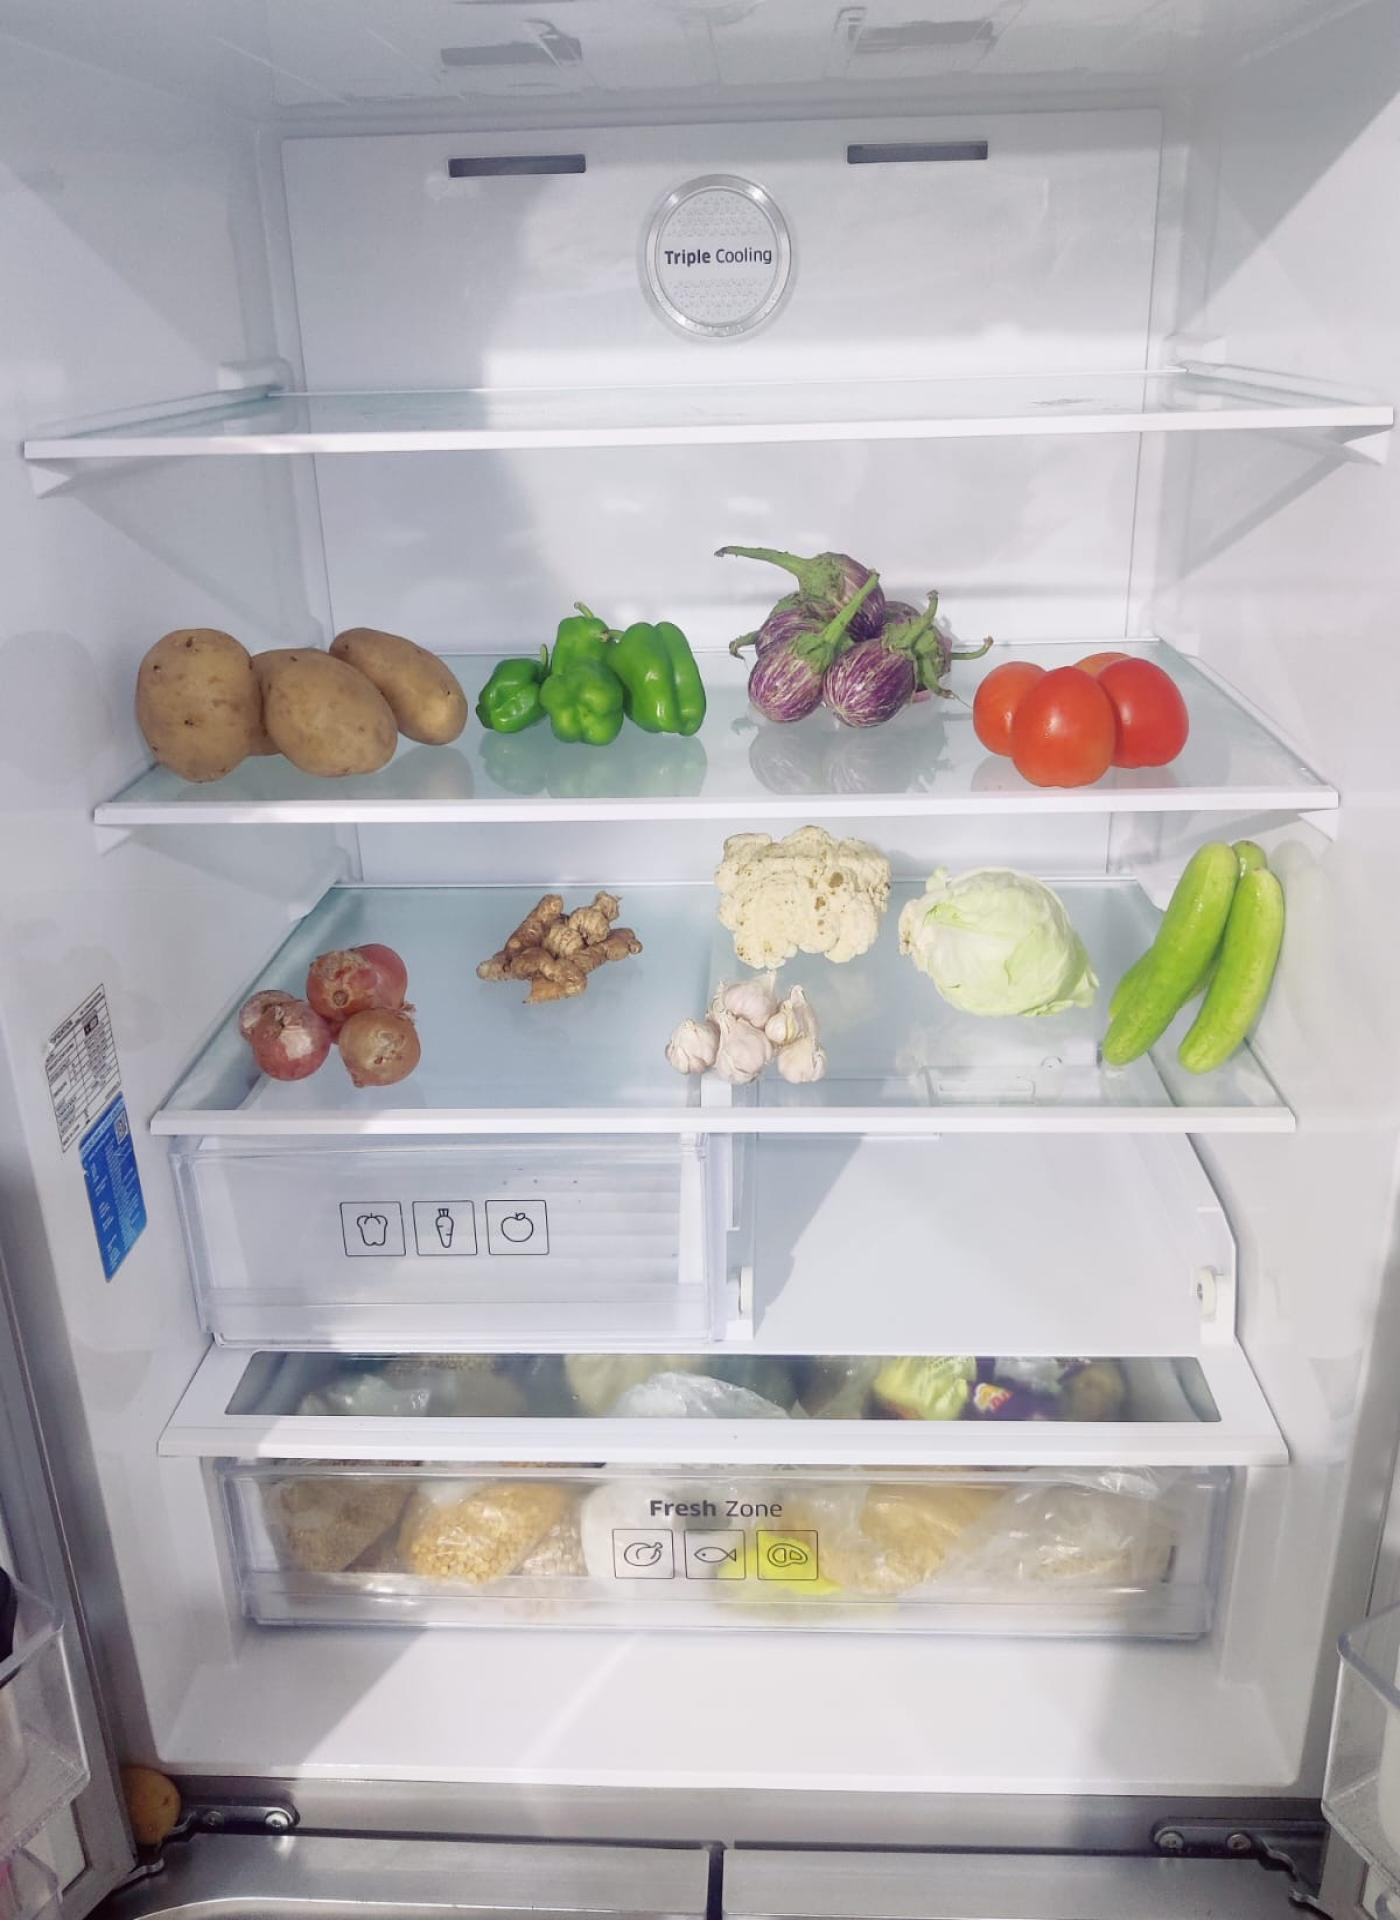brinjal: (732, 541, 933, 735)
cabbage: (906, 872, 1102, 1027)
capsicum: (474, 613, 704, 745)
cauliflower: (713, 818, 892, 961)
cucumber: (1105, 830, 1288, 1081)
garlic: (672, 978, 836, 1090)
ginger: (479, 888, 641, 1003)
onion: (243, 942, 426, 1088)
potato: (130, 616, 468, 774)
tomato: (978, 647, 1196, 784)
